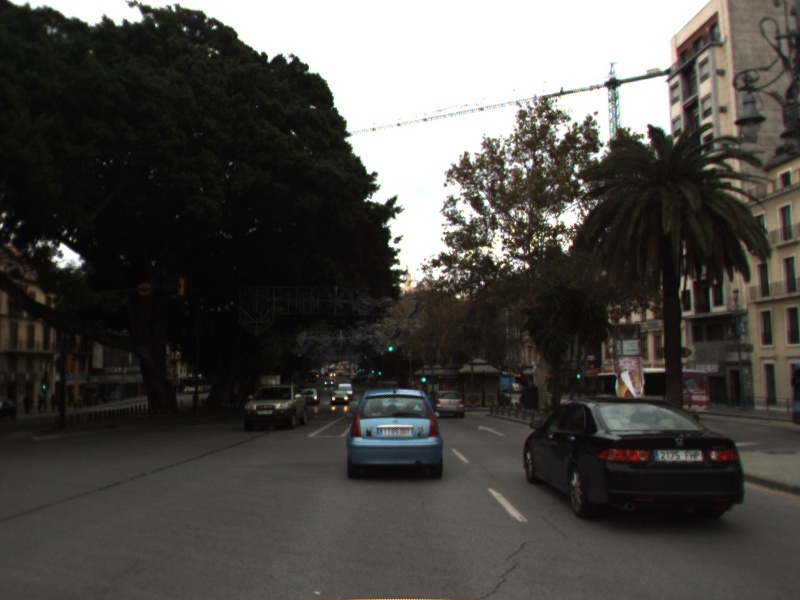STRAIGHT: (476, 423, 507, 438)
